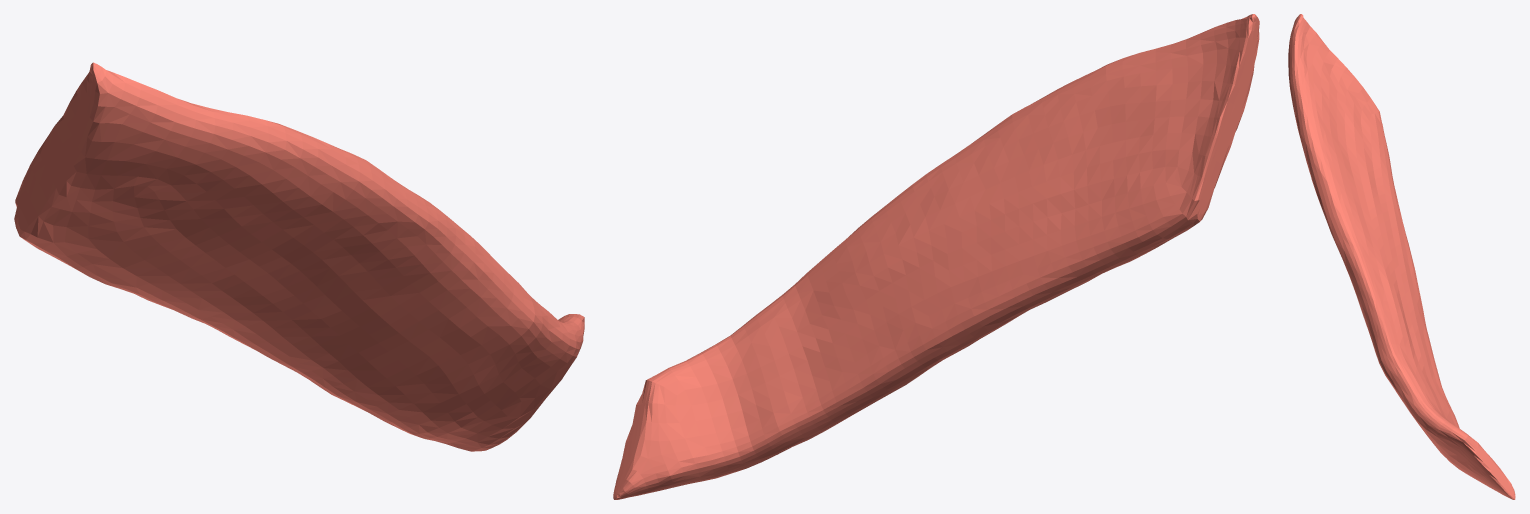
File: M_superficial_pectoral_minor.glb
3 views of the same model, side by side, from view 1: azimuth 30°, elevation 25°; view 2: azimuth 150°, elevation 25°; view 3: azimuth 270°, elevation 25° (orthographic). The views are drawn at different scales.
Parts seen in each view (by area): view 1: M_superficial_pectoral_minor; view 2: M_superficial_pectoral_minor; view 3: M_superficial_pectoral_minor.
Boxes of the visible parts, x1=… form: M_superficial_pectoral_minor: x1=14, y1=62, x2=584, y2=451; M_superficial_pectoral_minor: x1=613, y1=14, x2=1259, y2=499; M_superficial_pectoral_minor: x1=1288, y1=14, x2=1515, y2=499.
Bounding box in the file's own units: 0.00182 × 0.00173 × 0.00108.
